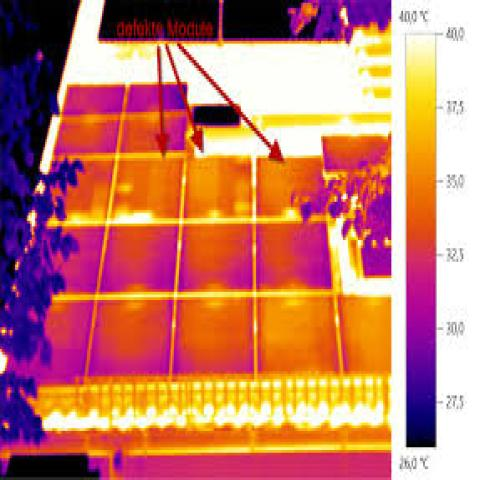fault: (117, 213, 157, 221), (117, 180, 136, 194), (207, 205, 224, 218), (68, 213, 88, 221), (286, 205, 298, 218), (286, 300, 303, 308)
